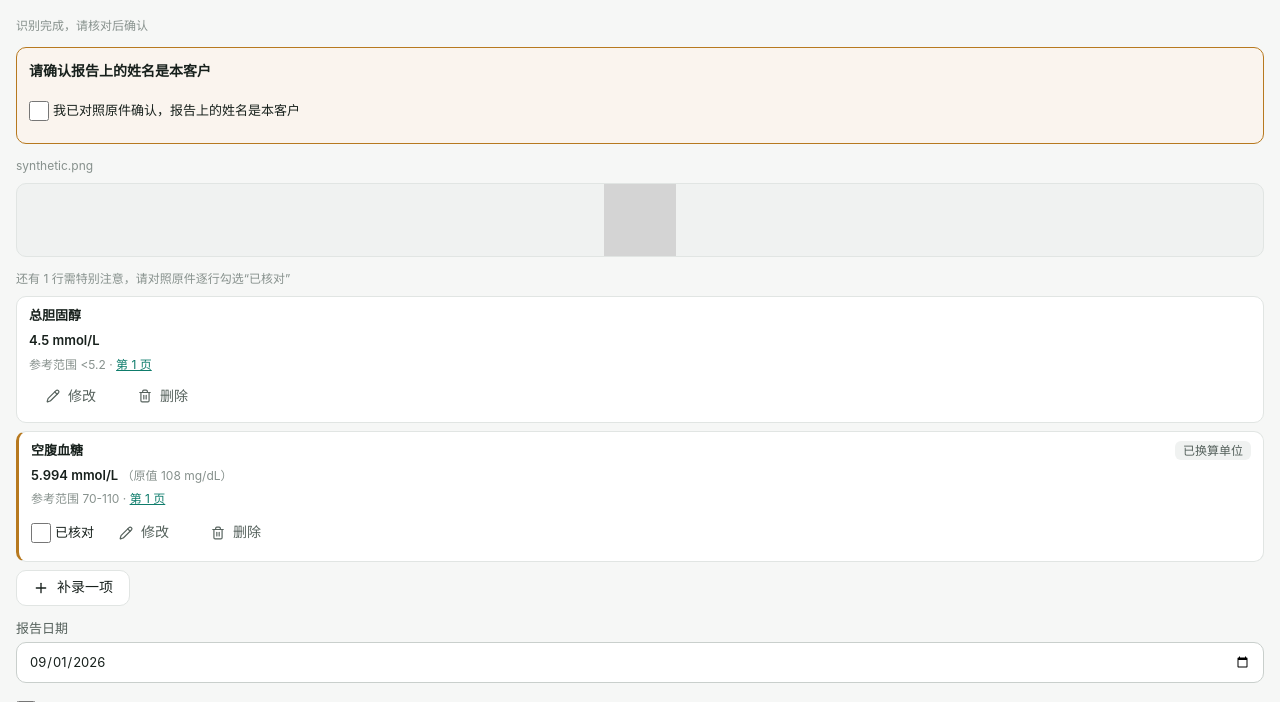
Test: 核对界面 › 需特别注意的行逐行勾选后才能确认，勾选保存在后端；原件走后端地址
This screenshot has width=1280, height=702.
Check: the text "还有 1 行需特别注意，请对照原件逐行勾选“已核对”" is shown, box [16,271,290,286]
Check: the text "已换算单位" is shown, box [1175,441,1251,460]
Click the checkbox labelled "我已对照原件确认，报告上的姓名是本客户": [39, 111] box [29,101,49,121]
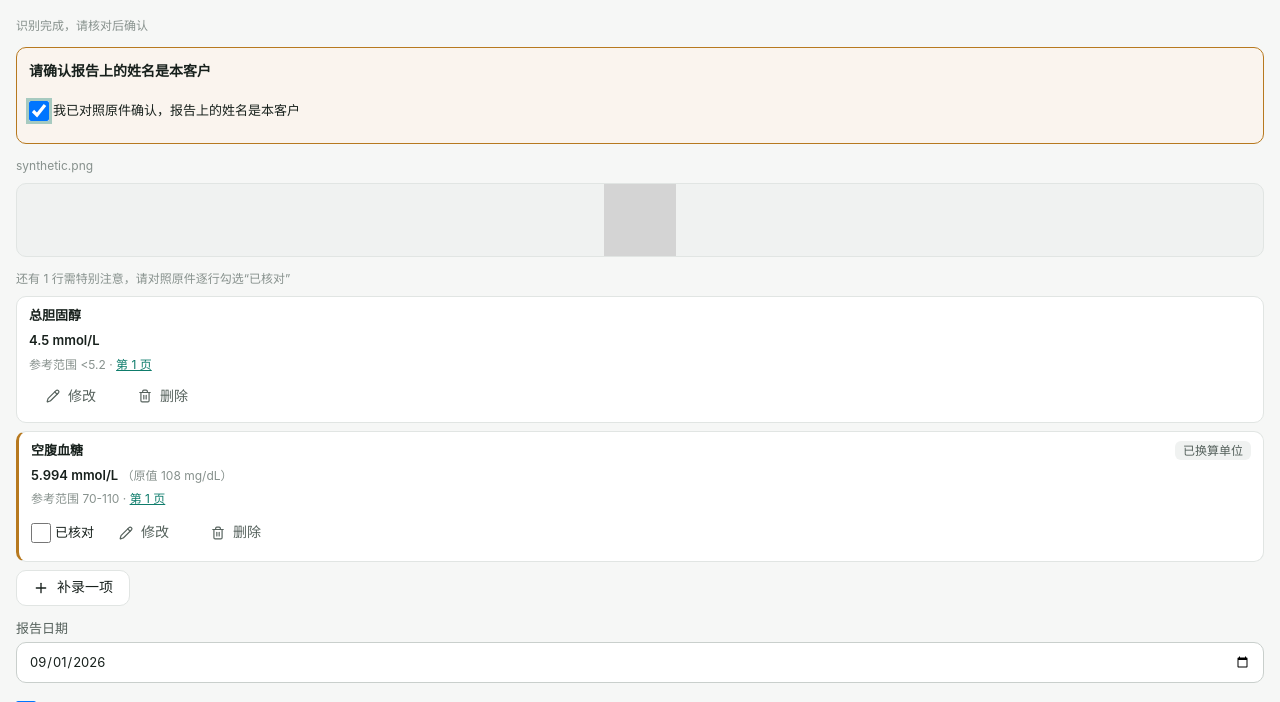
Click the checkbox labelled "已核对": [41, 532] box [31,522,51,542]
(page scrolled)
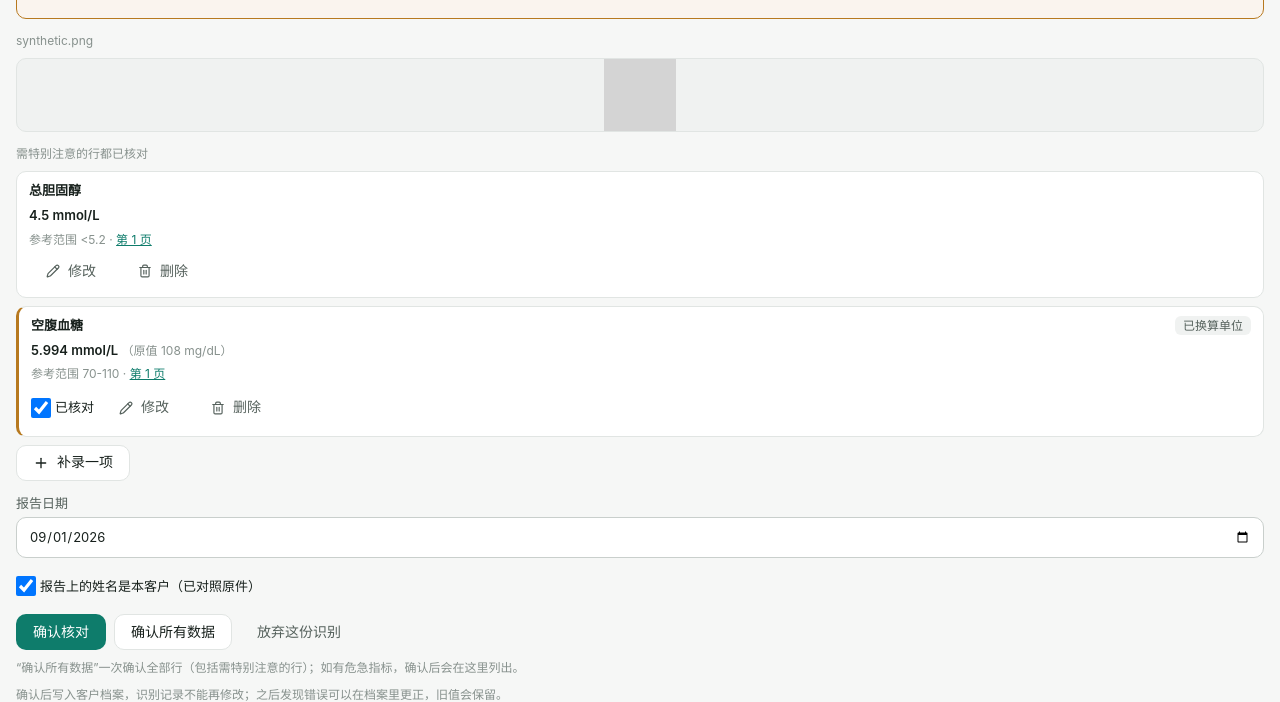
Check: the button "确认核对" is enabled
Click the button "确认核对": [61, 632] box [16,614,106,650]
(page scrolled)
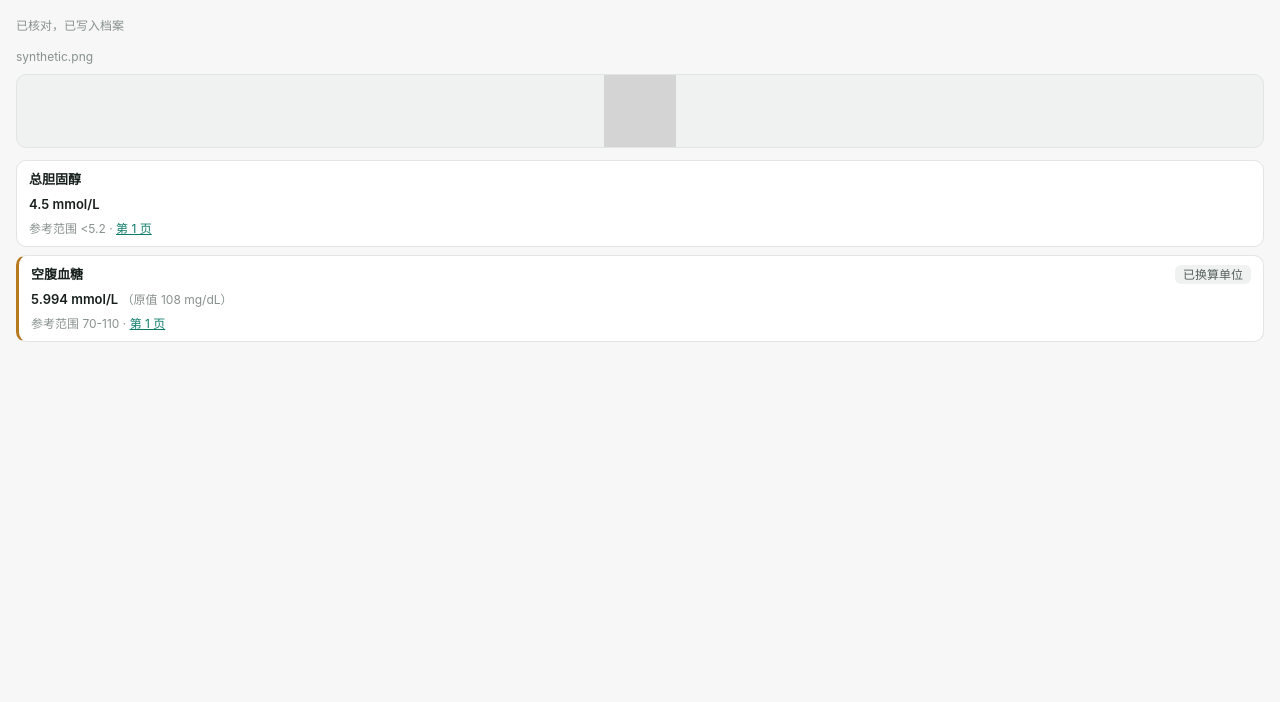
Check: the text "已核对，已写入档案" is shown, box [16,16,124,35]
Check: the button "确认核对" is gone
